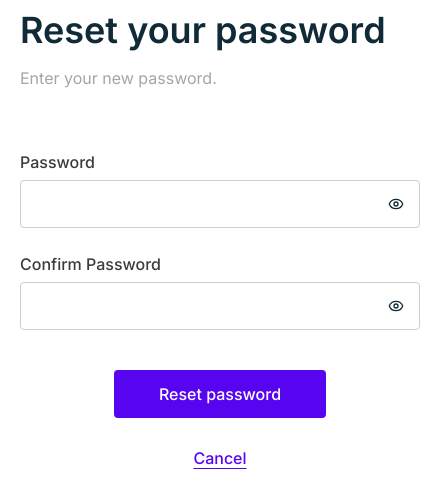
Test: Desktop › Reset token validity › Should succeed with valid reset token
Type "$rUwV96K" into the password field labelled "Password" at (220, 204), box [20,180,420,228]
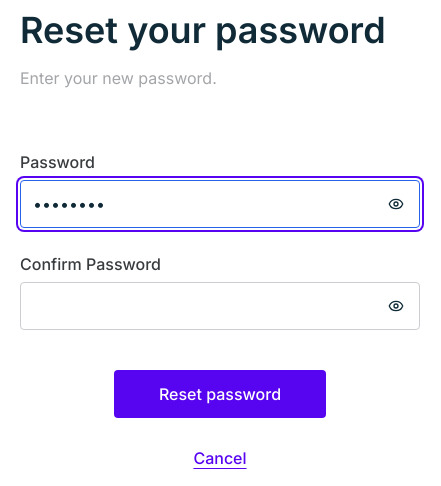
Type "$rUwV96K" into the password field with id "confirmPassword" at (220, 306), box [20,282,420,330]
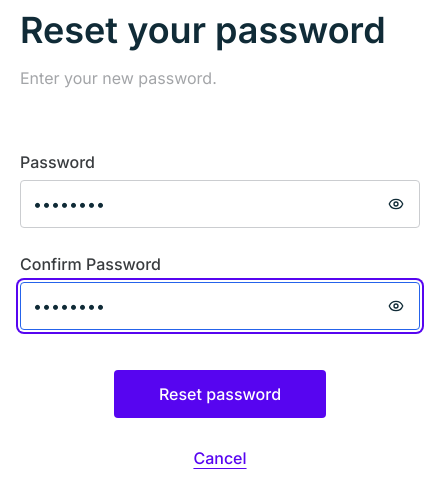
Click the button "Reset password" at (220, 394), box [114,370,326,418]
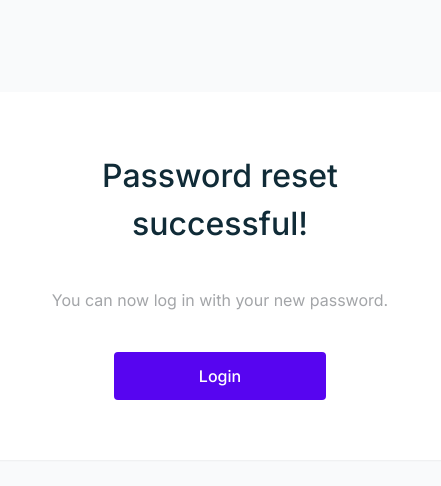
Result: the heading "Password reset successful!" is shown at [102,156,338,243]
